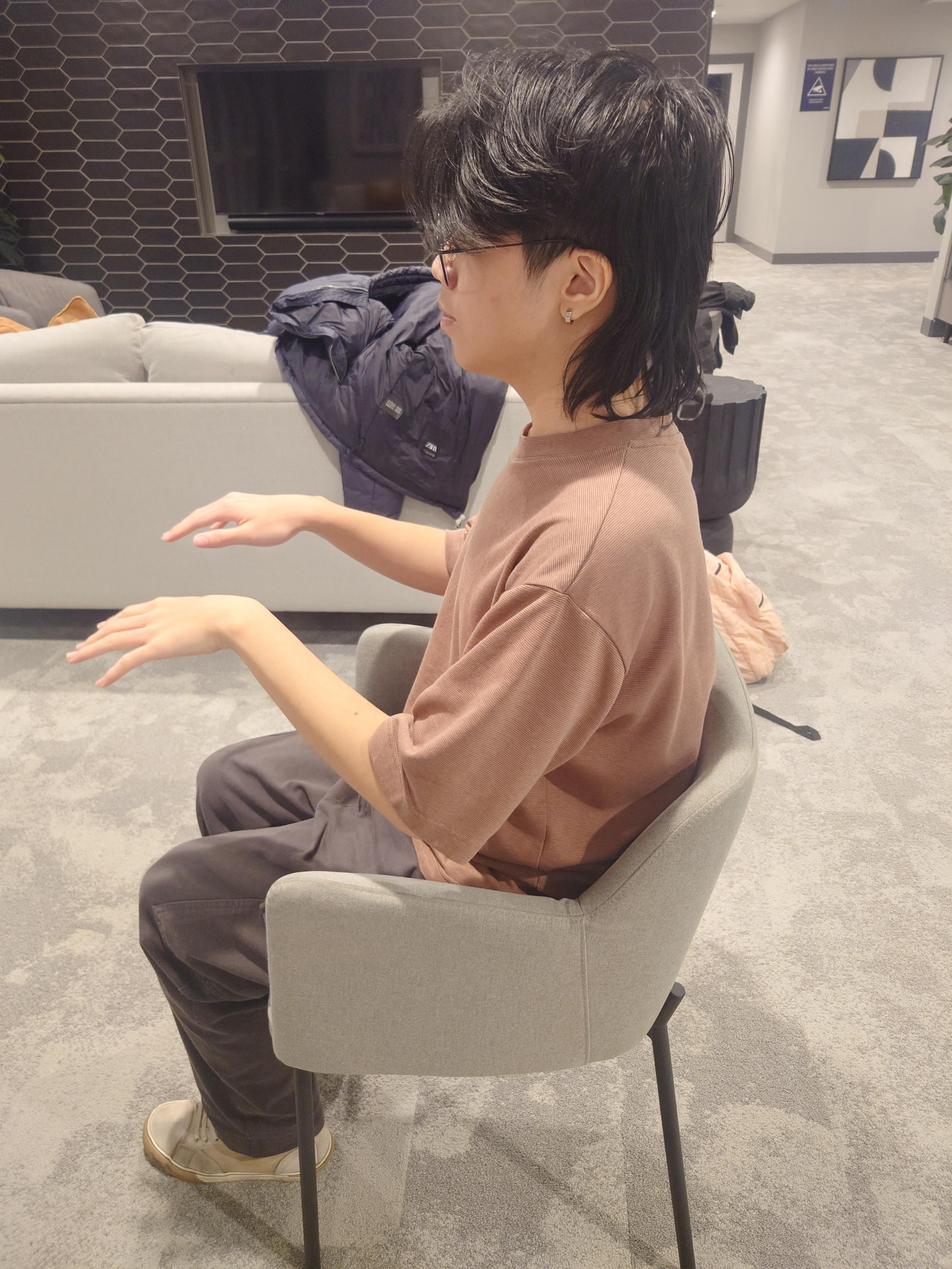GoodPosture: (61, 44, 722, 1182)
